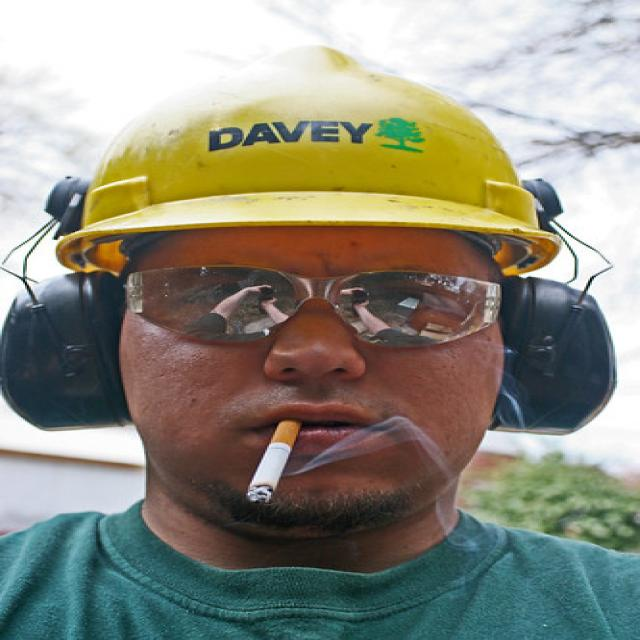Safety-Helmet: (56, 46, 571, 264)
